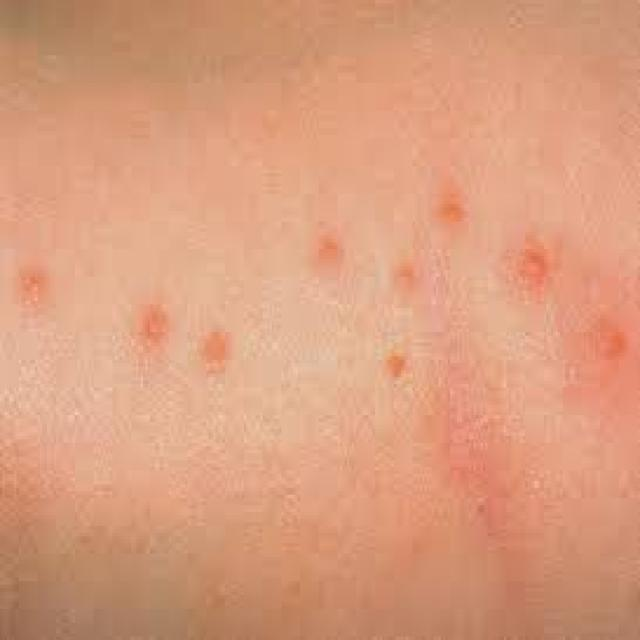tahta-kurusu: (573, 285, 640, 427), (509, 214, 576, 327), (401, 169, 499, 239), (187, 300, 250, 406), (307, 187, 355, 320), (370, 339, 430, 430), (11, 242, 56, 346), (128, 291, 181, 373), (371, 236, 425, 296)
